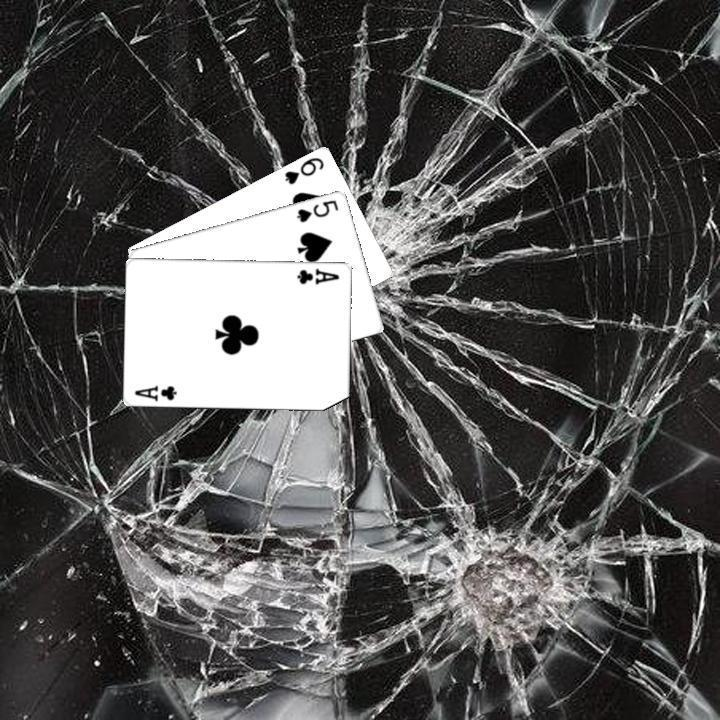5: (293, 195, 340, 224)
6: (280, 152, 326, 186)
A: (131, 380, 179, 403), (293, 264, 341, 286)
